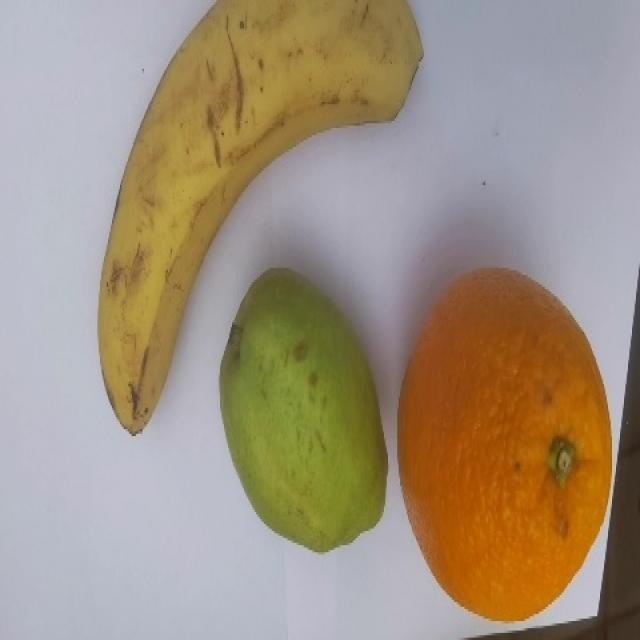Banana: (96, 0, 423, 436)
Orange: (396, 265, 613, 623)
